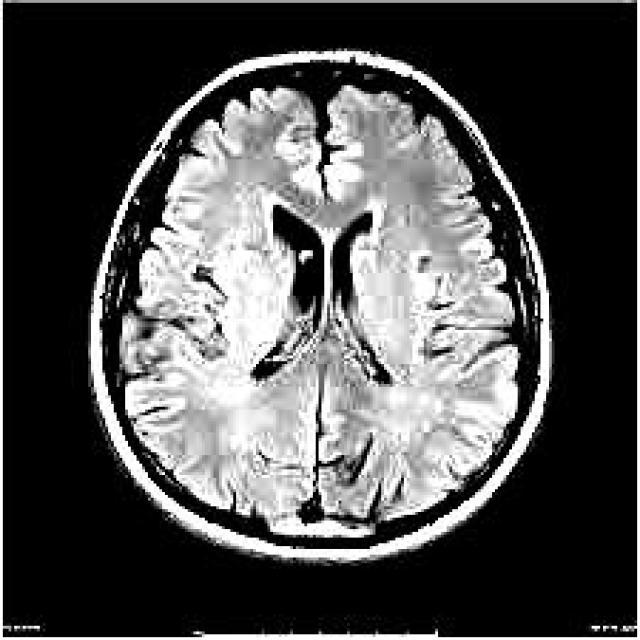notumor: (88, 54, 552, 569)
